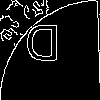D: (25, 25, 60, 70)
